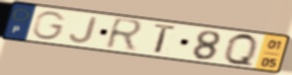8: (192, 29, 223, 62)
G: (31, 10, 69, 42)
J: (68, 16, 100, 45)
Q: (223, 32, 259, 70)
R: (103, 16, 146, 54)
T: (152, 22, 180, 55)
